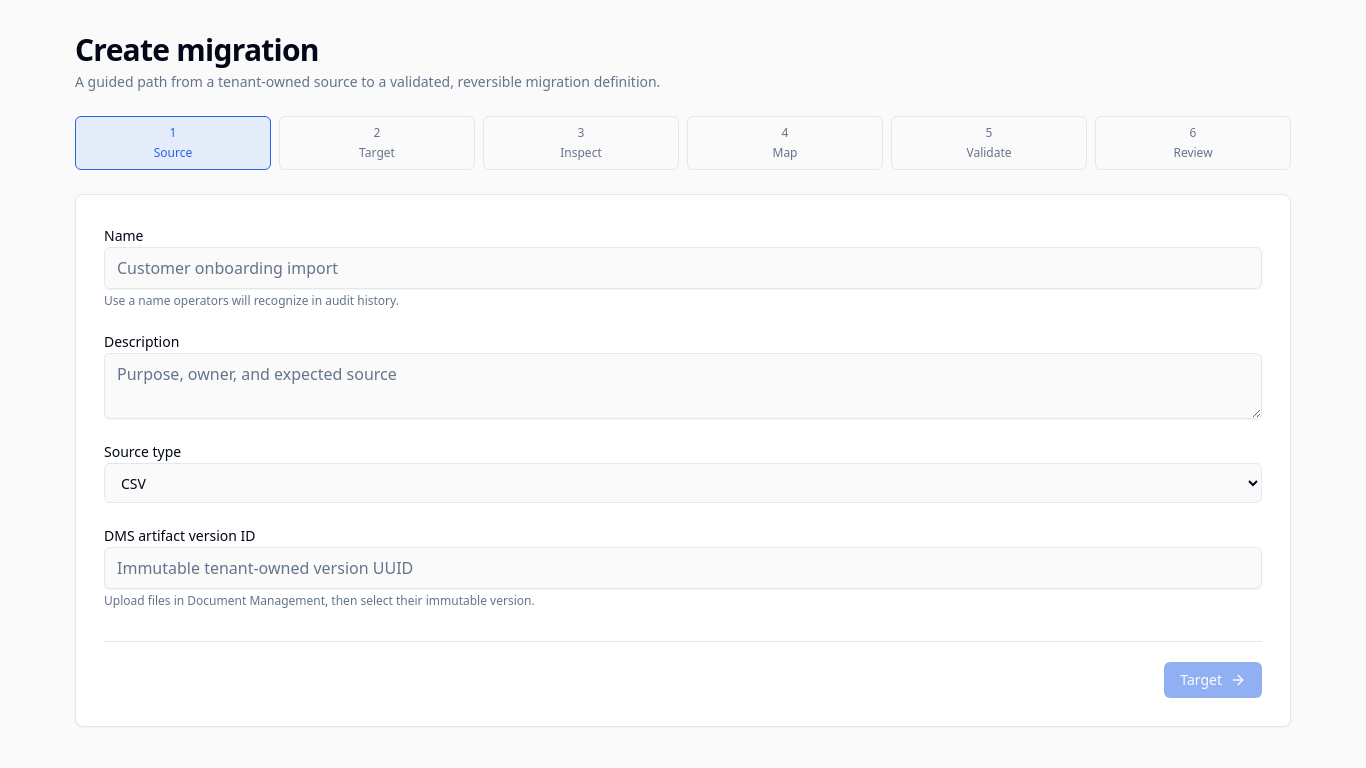
Test: CreateDataMigrationJobPage › reveals only source-specific fields and prevents invalid combinations
Expected: the field labelled "DMS artifact version ID" is shown, [104, 547, 1262, 589]
Expected: the field labelled "Named connection" is not shown
Select "HTTP API" in the dropdown labelled "Source type" at point(683, 483), box [104, 463, 1262, 503]
(page scrolled)
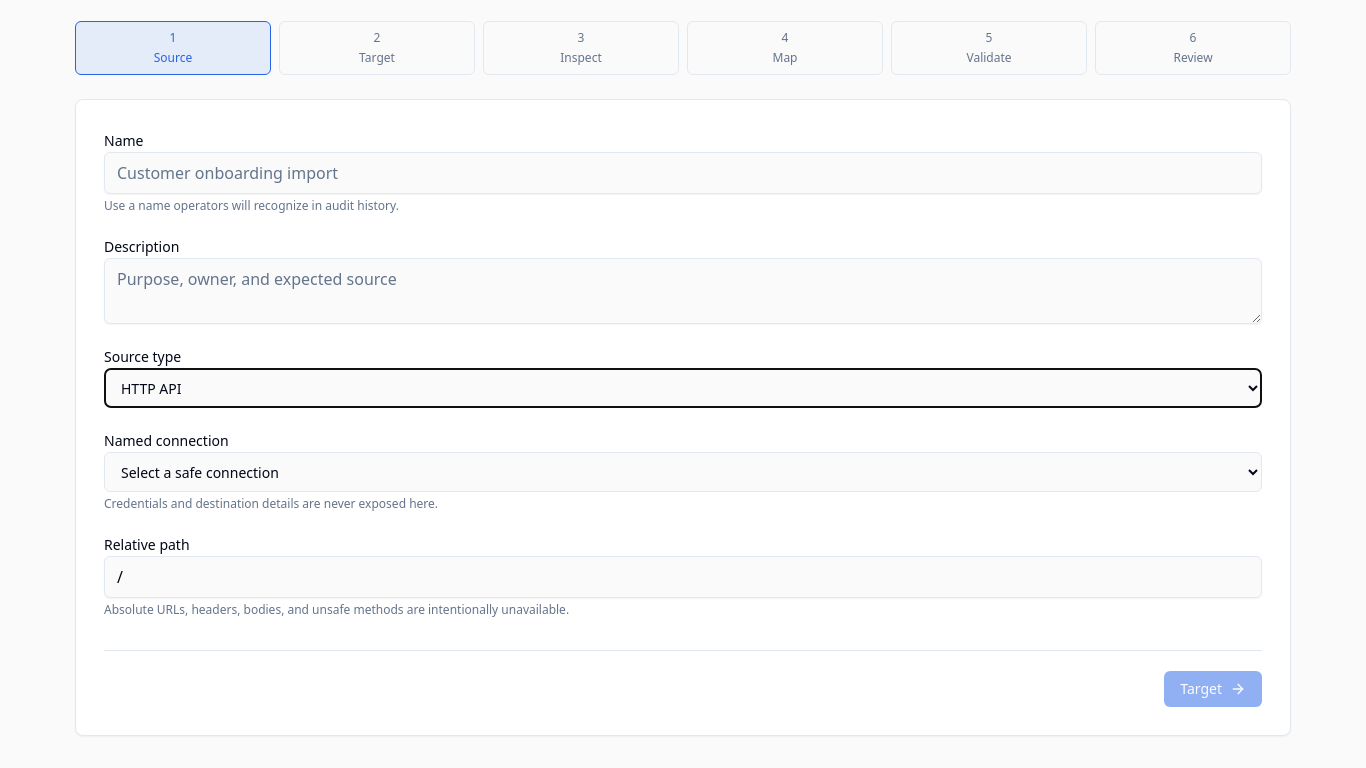
Expected: the dropdown labelled "Named connection" is shown, [104, 452, 1262, 492]
Expected: the field labelled "Relative path" is shown, [104, 556, 1262, 598]
Expected: the label labelled "DMS artifact version ID" is gone
